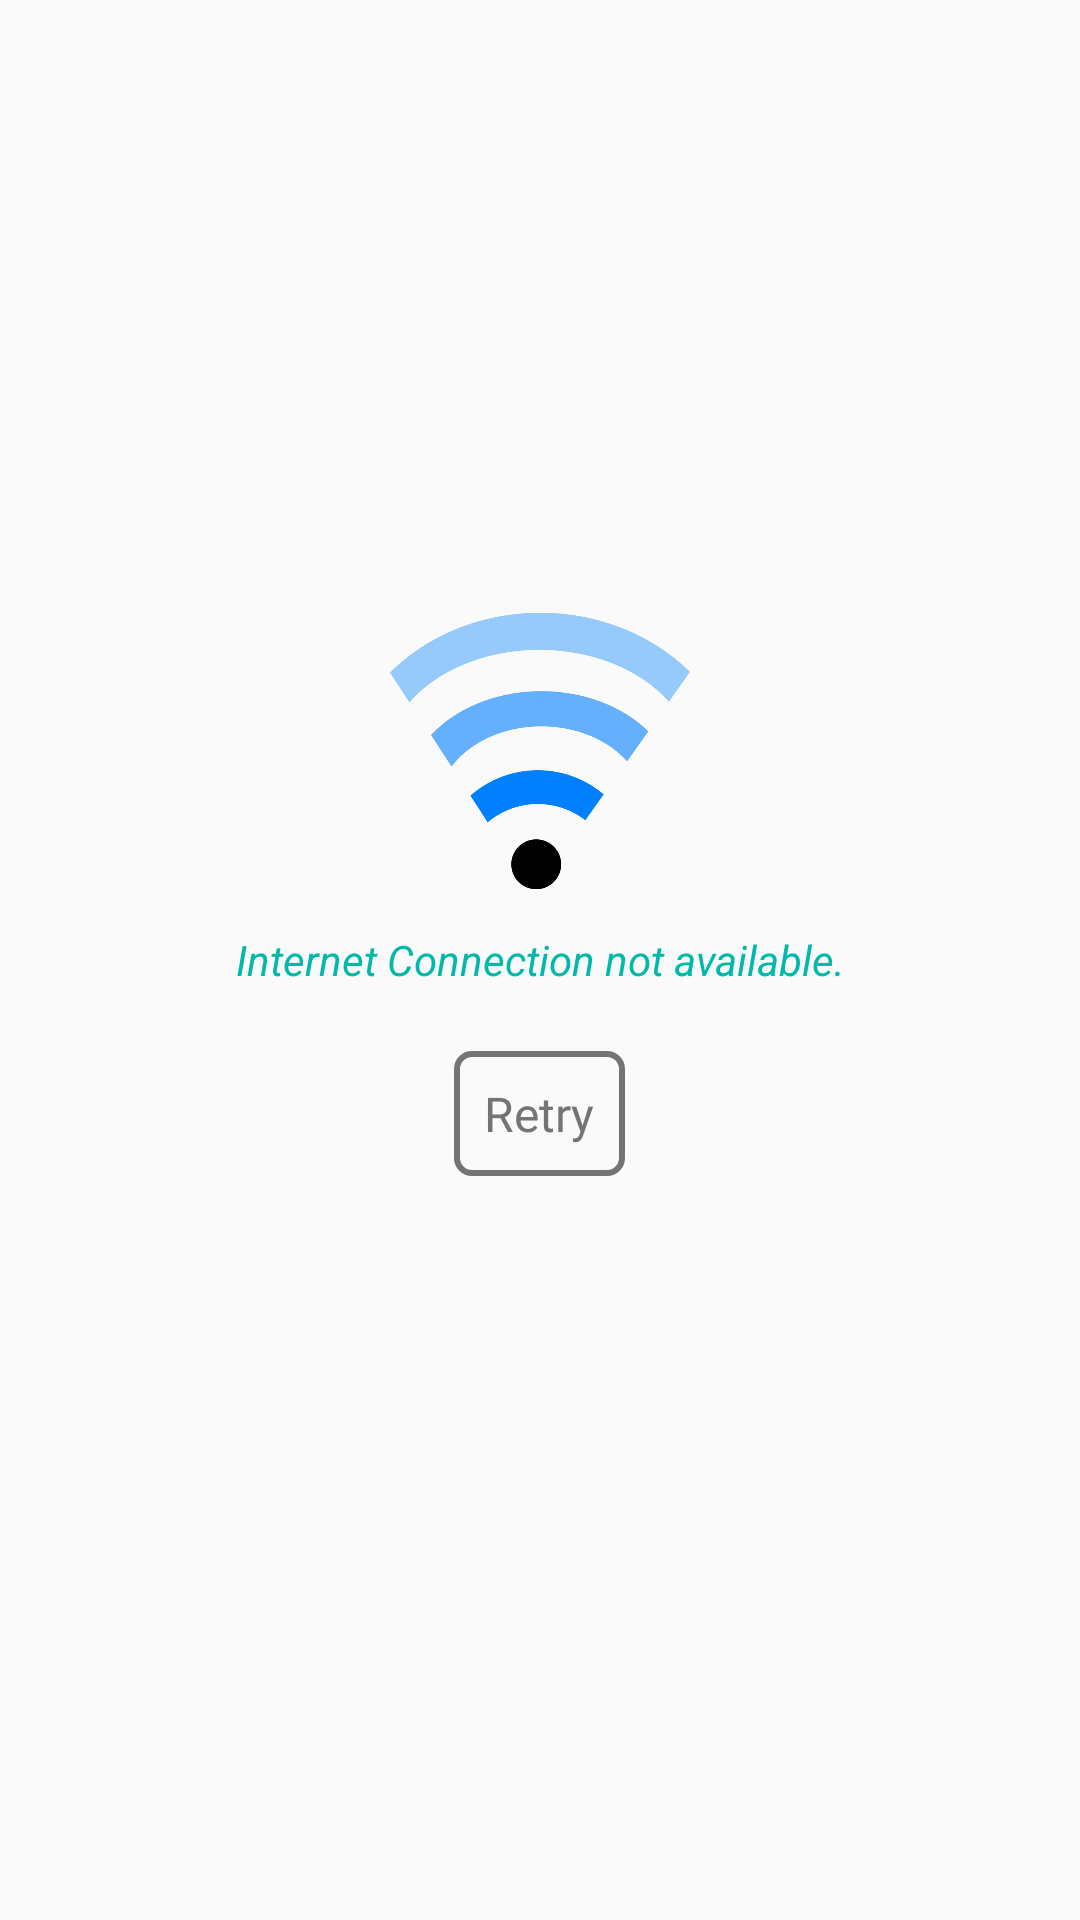

Icon bounding boxes for this 1080 × 1920 phone screenshot, format [x1, y1, x2, y2]:
wifi: [390, 613, 690, 889]
